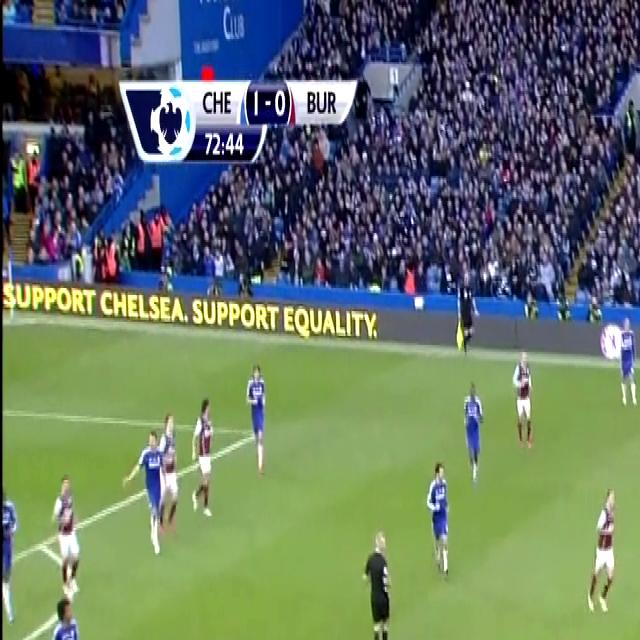referee: (356, 521, 398, 640), (453, 262, 484, 358)
soccer-player: (124, 424, 170, 562), (584, 481, 622, 620), (44, 468, 82, 606), (420, 454, 456, 584), (150, 401, 183, 541), (190, 391, 223, 528), (238, 352, 272, 482), (1, 466, 22, 640), (461, 374, 492, 486), (508, 344, 538, 456), (612, 309, 640, 411), (40, 592, 83, 640)
